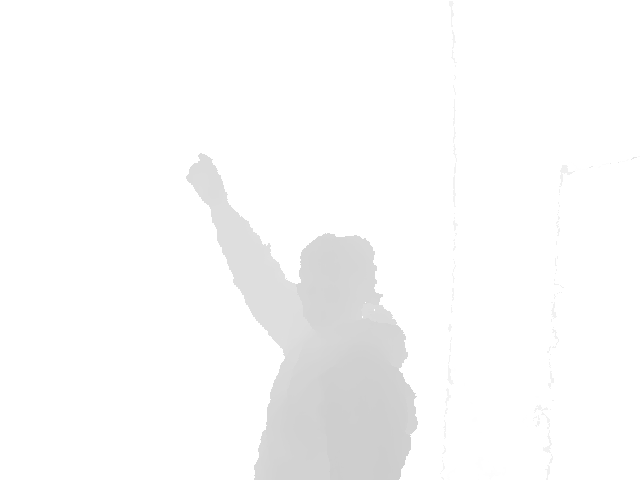hand: (183, 153, 230, 203)
head: (298, 232, 380, 333)
person: (184, 153, 420, 480)
